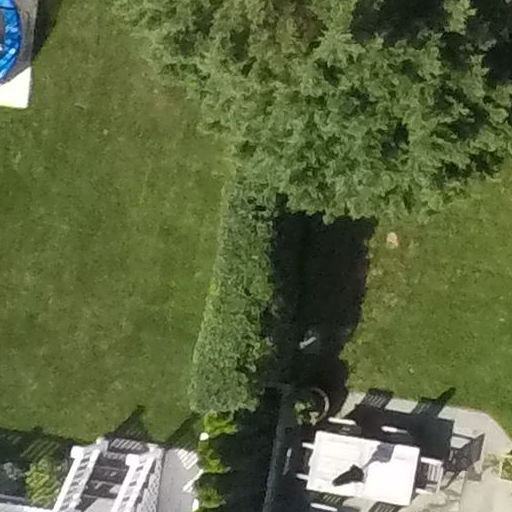container: (292, 381, 336, 426)
flower pot: (289, 384, 333, 426)
table: (301, 419, 433, 506)
